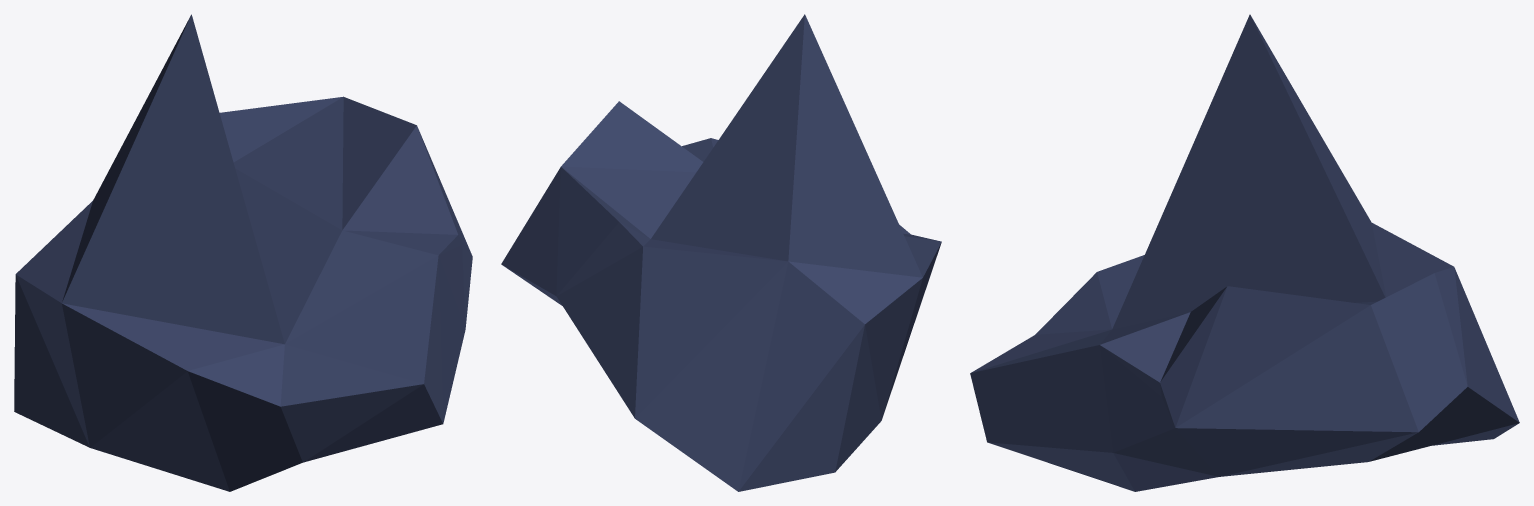
Rendered from Spikestone 2.fbx.
3 views of the same model, side by side, from view 1: azimuth 30°, elevation 25°; view 2: azimuth 150°, elevation 25°; view 3: azimuth 270°, elevation 25° (orthographic). The views are drawn at different scales.
Parts seen in each view (by area): view 1: Spikestone Size 2; view 2: Spikestone Size 2; view 3: Spikestone Size 2.
Part boxes in pixels (x1=…): Spikestone Size 2: x1=14, y1=14, x2=472, y2=491; Spikestone Size 2: x1=501, y1=14, x2=941, y2=491; Spikestone Size 2: x1=970, y1=14, x2=1519, y2=491.
Size of the model in its own units: 174 by 186 by 207.
